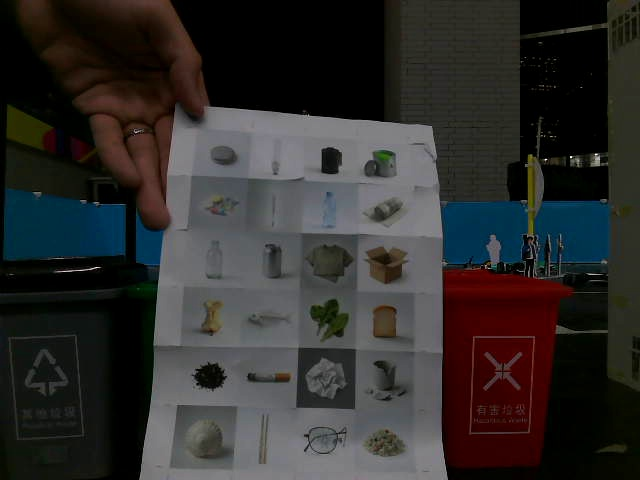food_trash: (357, 415, 412, 469), (185, 290, 240, 344), (358, 296, 414, 349), (182, 351, 238, 404), (242, 292, 296, 345), (301, 293, 354, 346)
hazardous_trash: (248, 183, 300, 232), (193, 180, 244, 227), (306, 139, 354, 182), (357, 141, 406, 183), (201, 132, 246, 177), (251, 135, 301, 174)
other_trash: (356, 354, 412, 409), (294, 412, 352, 465), (240, 352, 296, 406), (237, 410, 292, 464), (300, 350, 352, 404), (180, 411, 232, 465)
recyclable_trash: (359, 237, 417, 292), (188, 230, 243, 287), (302, 237, 356, 291), (247, 236, 300, 287), (359, 187, 415, 234), (248, 183, 299, 232), (301, 187, 355, 233)
